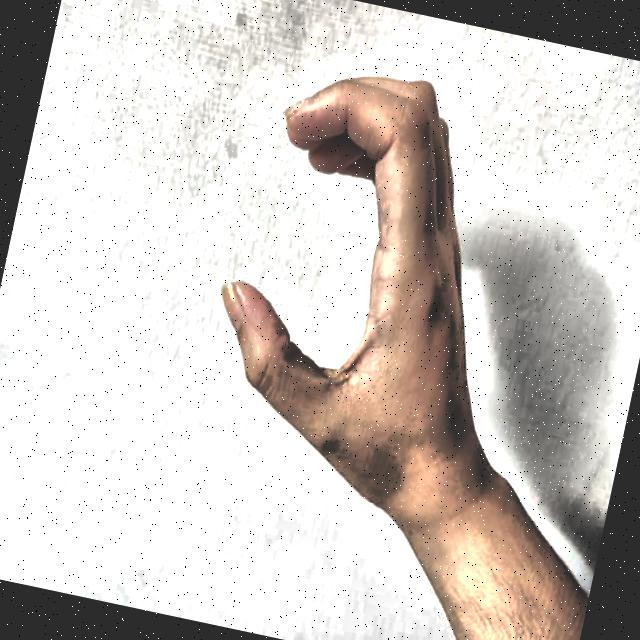A: (138, 14, 512, 564)
